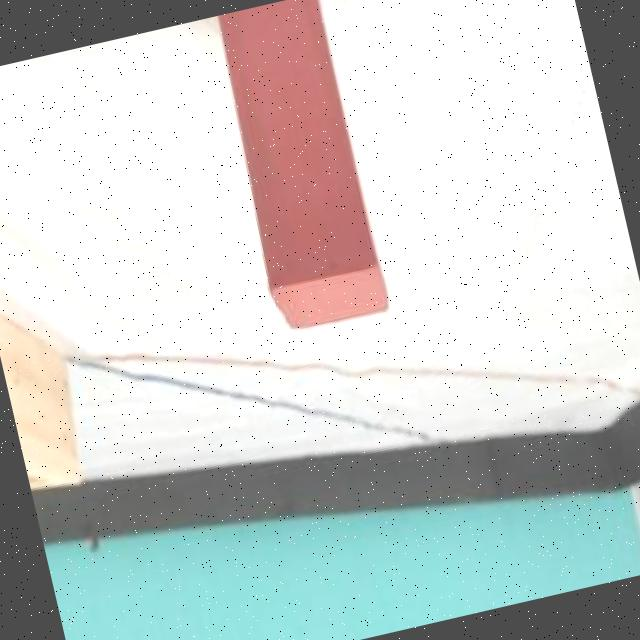redbox: (203, 0, 396, 339)
